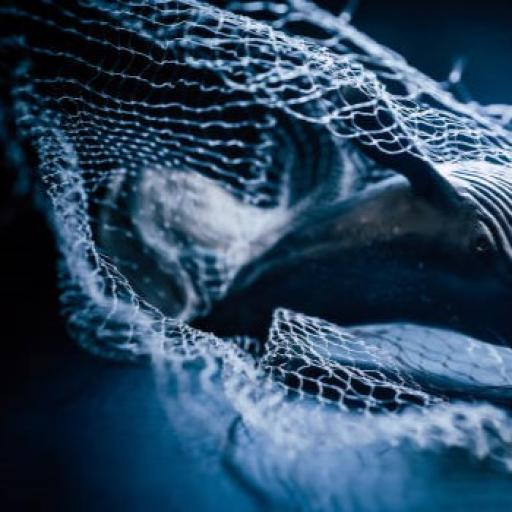net: (2, 7, 512, 466)
